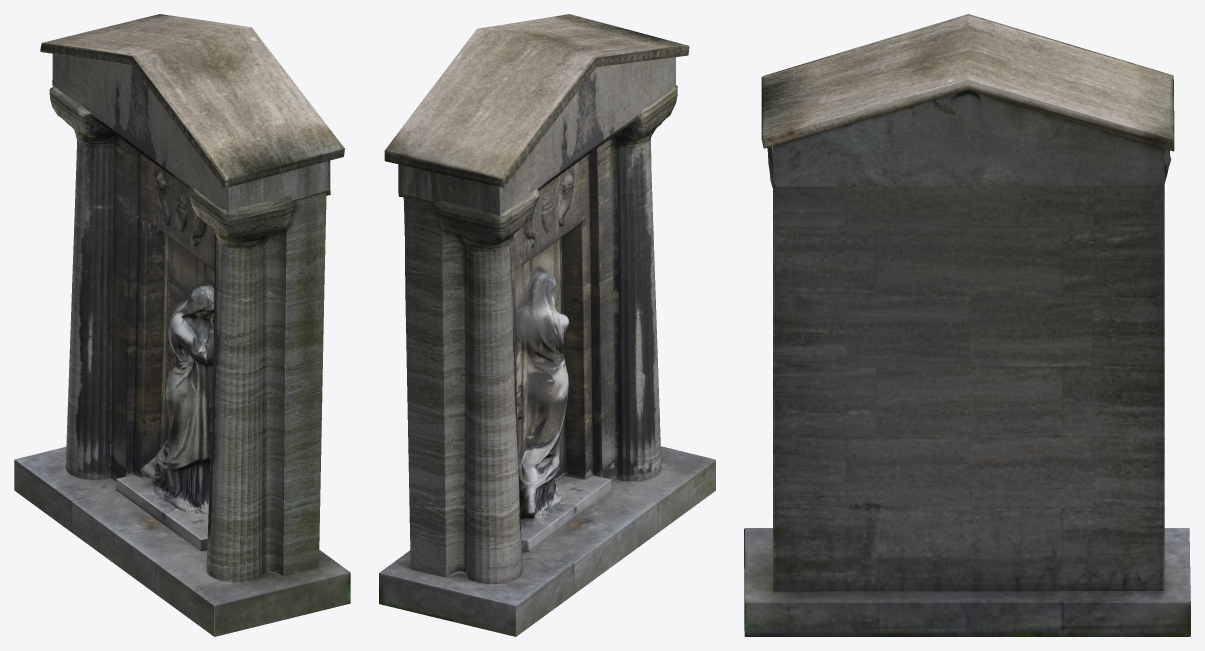
The model's file is sm_GraveSculpture_05_01.fbx.
3 renders of one model, left to right at view 1: azimuth 30°, elevation 25°; view 2: azimuth 150°, elevation 25°; view 3: azimuth 270°, elevation 25°, orthographic. The views are drawn at different scales.
Parts seen in each view (by area): view 1: sm_GraveSculpture_05_01_LOD0; view 2: sm_GraveSculpture_05_01_LOD0; view 3: sm_GraveSculpture_05_01_LOD0.
Part boxes in pixels (bbox=[...]): sm_GraveSculpture_05_01_LOD0: bbox=[14, 14, 350, 636]; sm_GraveSculpture_05_01_LOD0: bbox=[379, 14, 715, 636]; sm_GraveSculpture_05_01_LOD0: bbox=[744, 14, 1190, 636].
Size of the model in its own units: 109 by 273 by 378.
